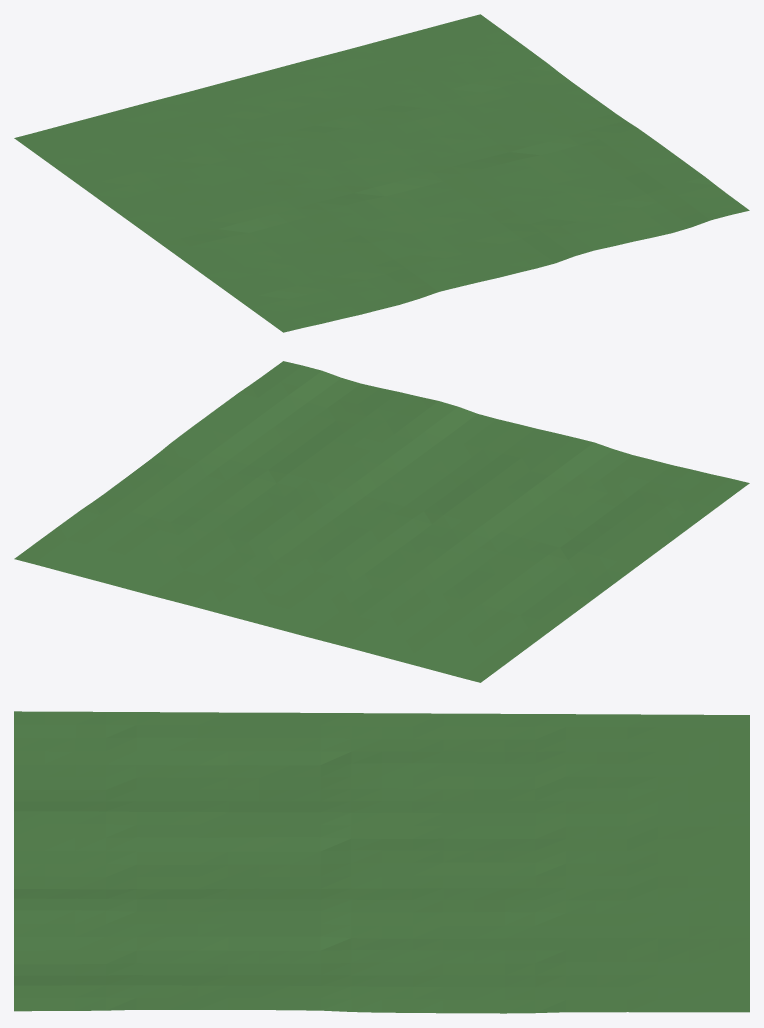
File: valley_floor.obj
3 views of the same model, one above another, from view 1: azimuth 30°, elevation 25°; view 2: azimuth 150°, elevation 25°; view 3: azimuth 270°, elevation 25° (orthographic). The views are drawn at different scales.
Parts seen in each view (by area): view 1: valley_floor; view 2: valley_floor; view 3: valley_floor.
Part boxes in pixels (x1=…): valley_floor: x1=14, y1=14, x2=749, y2=332; valley_floor: x1=14, y1=361, x2=749, y2=682; valley_floor: x1=14, y1=711, x2=749, y2=1013.
Bounding box in the file's own units: 16 × 0.3887 × 16.
